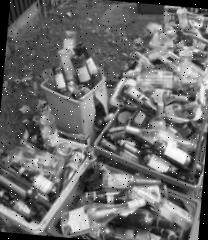glass: (60, 144, 204, 240), (0, 107, 93, 238), (98, 105, 208, 189), (111, 46, 208, 123), (40, 24, 108, 102), (141, 6, 208, 56)
